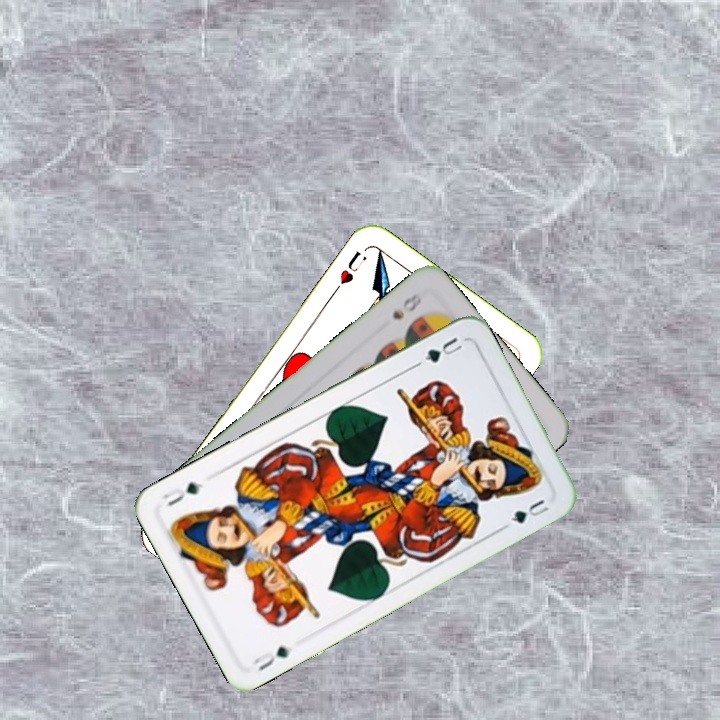GU: (247, 642, 293, 674), (420, 333, 465, 365)
HU: (329, 247, 364, 296)
S8: (388, 289, 424, 323)
